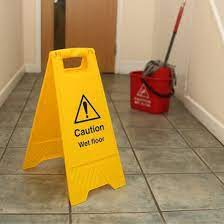wet caution sign: (21, 35, 131, 211)
